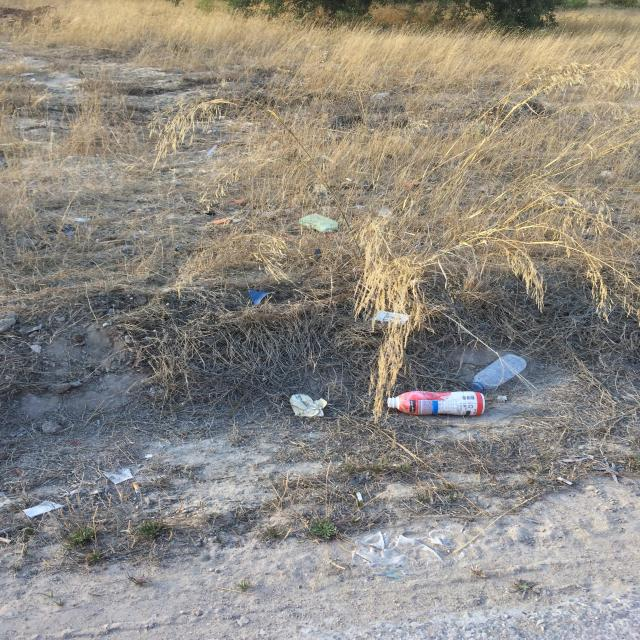litter: (388, 391, 485, 415), (471, 354, 526, 391), (289, 394, 327, 416), (22, 501, 64, 517), (102, 467, 133, 484), (376, 310, 409, 324), (132, 482, 141, 493), (357, 493, 362, 502)
